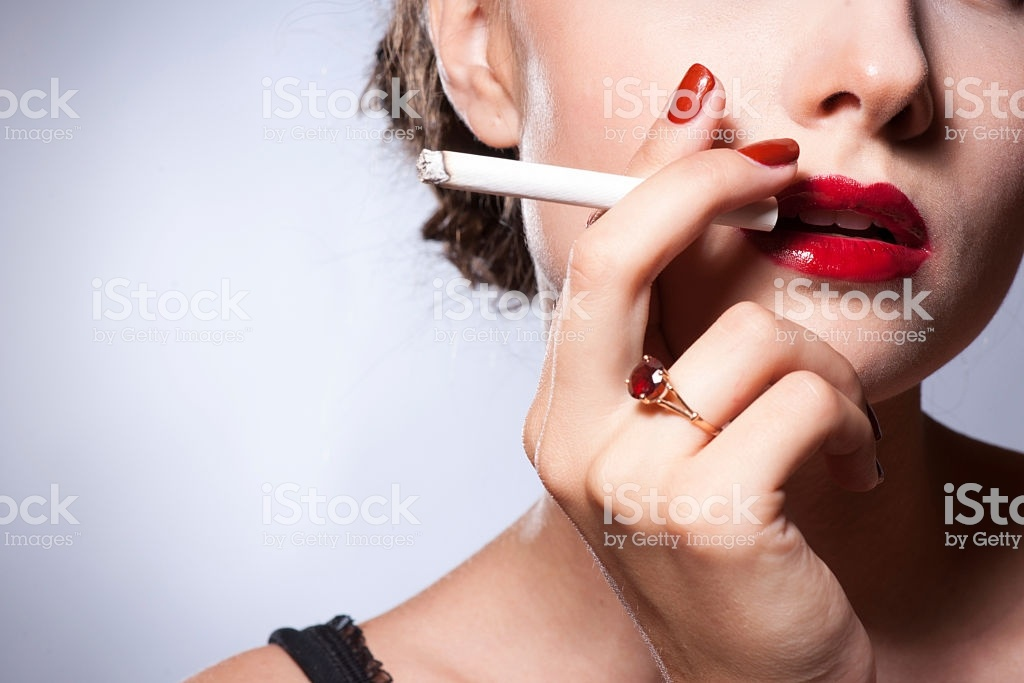sigaretta: (412, 143, 786, 234)
